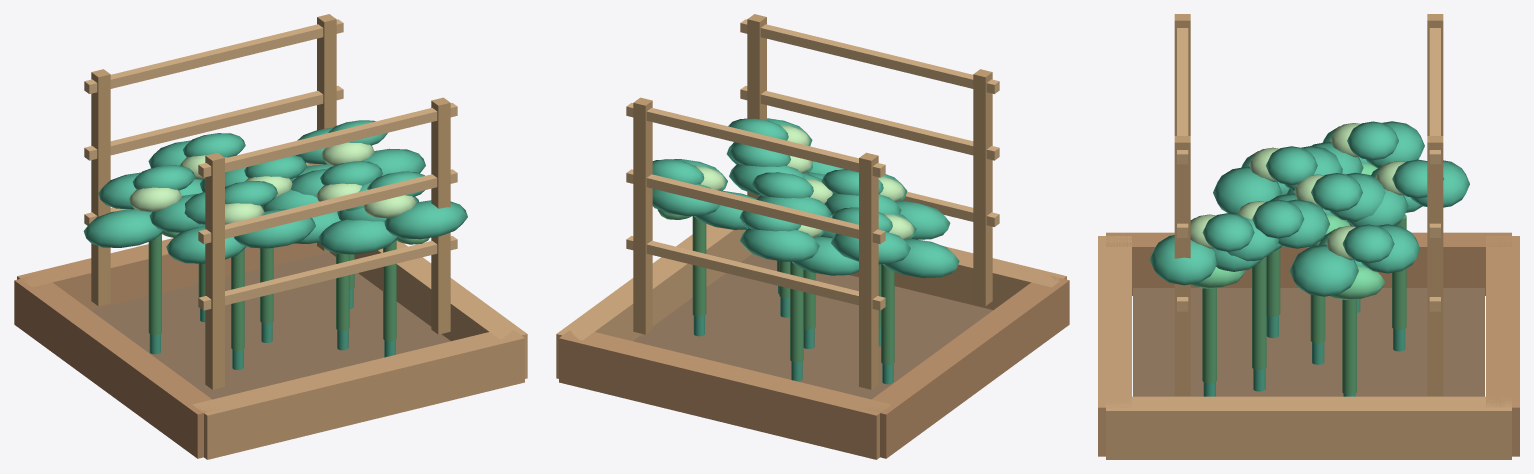
Rendered from crop_vine_late.glb.
The picture shows the model from 3 angles, left to right: view 1: azimuth 30°, elevation 25°; view 2: azimuth 150°, elevation 25°; view 3: azimuth 270°, elevation 25°; orthographic projection. The views are drawn at different scales.
Size of the model in its own units: 0.935 by 0.79 by 0.935.
